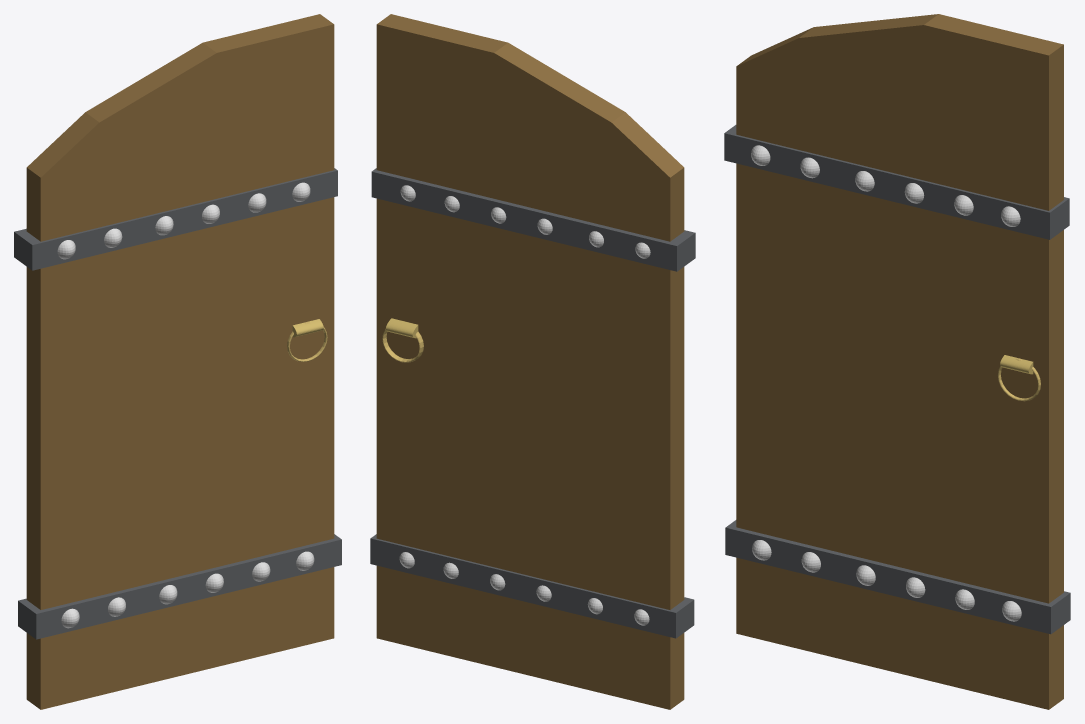
File: doorRight3.glb
The picture shows the model from 3 angles, left to right: view 1: azimuth 30°, elevation 25°; view 2: azimuth 150°, elevation 25°; view 3: azimuth 330°, elevation 25°; orthographic projection. The views are drawn at different scales.
Parts seen in each view (by area): view 1: Mesh_Mesh_head_geo.001_lambert2SG.001; view 2: Mesh_Mesh_head_geo.001_lambert2SG.001; view 3: Mesh_Mesh_head_geo.001_lambert2SG.001.
Part boxes in pixels (<box>): Mesh_Mesh_head_geo.001_lambert2SG.001: <box>14,14,341,709</box>; Mesh_Mesh_head_geo.001_lambert2SG.001: <box>370,14,695,709</box>; Mesh_Mesh_head_geo.001_lambert2SG.001: <box>724,14,1070,709</box>.
Size of the model in its own units: 12.6 by 24 by 1.9.
